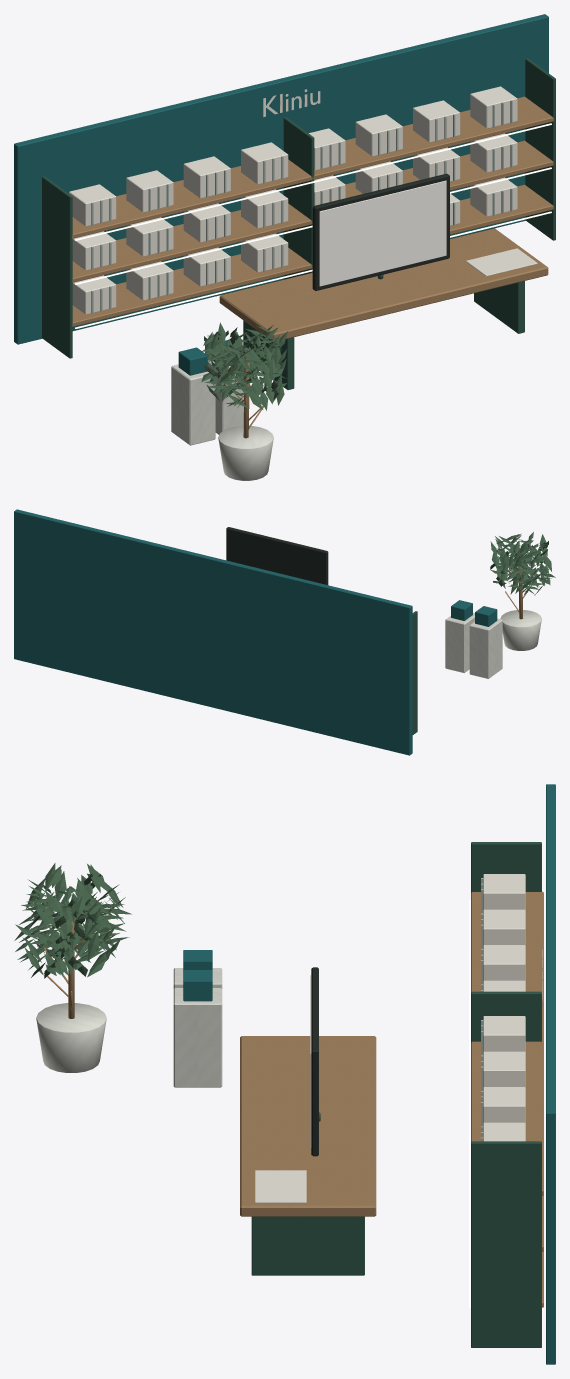
The model's file is room-kliniu-v1.glb.
3 renders of one model, top to bottom at view 1: azimuth 30°, elevation 25°; view 2: azimuth 150°, elevation 25°; view 3: azimuth 270°, elevation 25°, orthographic. The views are drawn at different scales.
Visible parts, largest first — view 1: room__kliniu__teal, room__kliniu__oak, room__kliniu__paper, room__kliniu__greensteel, room__kliniu__ivory, room__kliniu__concrete, room__kliniu__leaf, room__kliniu__steel_light, room__kliniu__warm, room__kliniu__graphite; view 2: room__kliniu__teal, room__kliniu__concrete, room__kliniu__graphite, room__kliniu__leaf, room__kliniu__greensteel; view 3: room__kliniu__oak, room__kliniu__greensteel, room__kliniu__paper, room__kliniu__concrete, room__kliniu__leaf, room__kliniu__teal, room__kliniu__graphite, room__kliniu__warm, room__kliniu__steel_light.
Part boxes in pixels (x1,y1,x2,y2): room__kliniu__teal: (14, 14, 548, 375); room__kliniu__oak: (72, 96, 553, 438); room__kliniu__paper: (69, 86, 537, 314); room__kliniu__greensteel: (42, 58, 555, 389); room__kliniu__ivory: (319, 180, 446, 286); room__kliniu__concrete: (171, 360, 273, 480); room__kliniu__leaf: (201, 322, 287, 410); room__kliniu__steel_light: (91, 100, 512, 313); room__kliniu__warm: (75, 123, 551, 328); room__kliniu__graphite: (312, 173, 449, 290); room__kliniu__teal: (14, 509, 497, 755); room__kliniu__concrete: (445, 610, 541, 678); room__kliniu__graphite: (226, 527, 328, 584); room__kliniu__leaf: (490, 532, 555, 595); room__kliniu__greensteel: (412, 611, 417, 734); room__kliniu__oak: (43, 891, 543, 1307); room__kliniu__greensteel: (251, 842, 541, 1347); room__kliniu__paper: (255, 874, 542, 1202); room__kliniu__concrete: (36, 968, 222, 1087); room__kliniu__leaf: (14, 863, 131, 978); room__kliniu__teal: (183, 784, 555, 1364); room__kliniu__graphite: (311, 967, 318, 1156); room__kliniu__warm: (469, 900, 470, 1308); room__kliniu__steel_light: (481, 878, 483, 1141).
Bounding box in the file's own units: 7.73 × 2.75 × 5.36.
10 materials, 2 textured.
